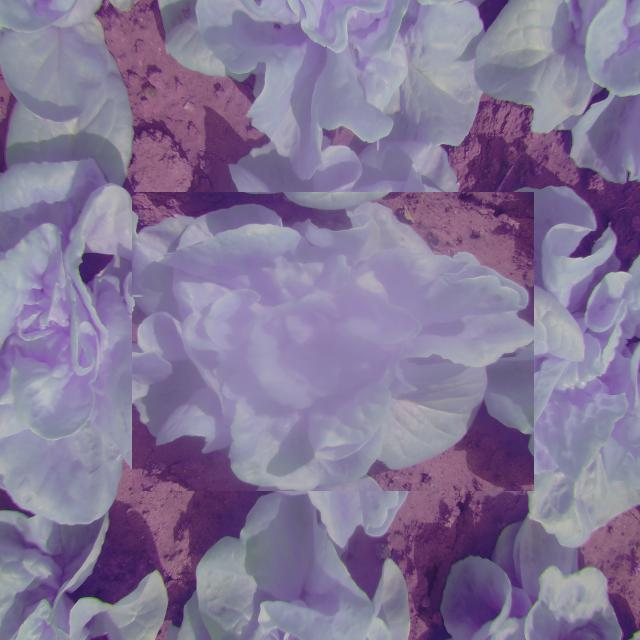vege: (157, 166, 509, 517)
